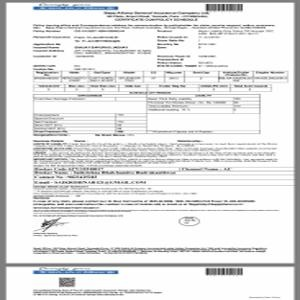table: (33, 93, 261, 133), (33, 71, 288, 85)
text: (31, 21, 279, 71), (33, 140, 281, 167), (101, 10, 209, 23)
